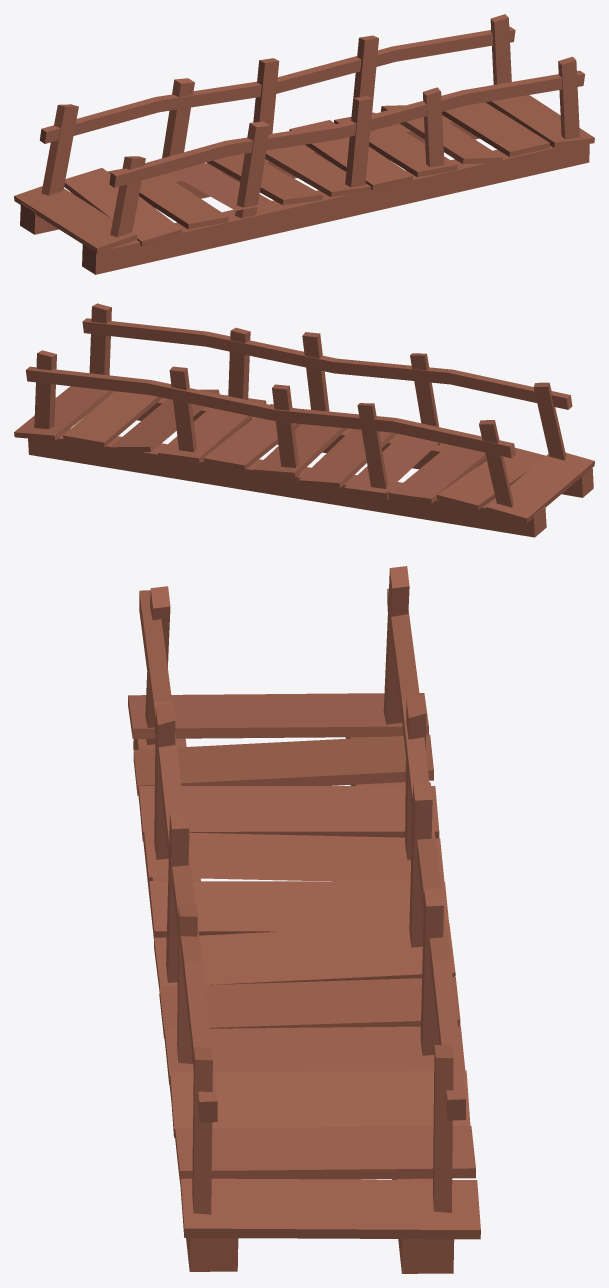
File: Plank bridge.fbx
The picture shows the model from 3 angles, top to bottom: view 1: azimuth 30°, elevation 25°; view 2: azimuth 150°, elevation 25°; view 3: azimuth 270°, elevation 25°; orthographic projection. The views are drawn at different scales.
Parts seen in each view (by area): view 1: Сходи.003; view 2: Сходи.003; view 3: Сходи.003.
Part boxes in pixels (<box>): Сходи.003: <box>14,14,594,274</box>; Сходи.003: <box>14,303,594,537</box>; Сходи.003: <box>128,566,480,1273</box>.
Bounding box in the file's own units: 186 × 47.02 × 56.49.
